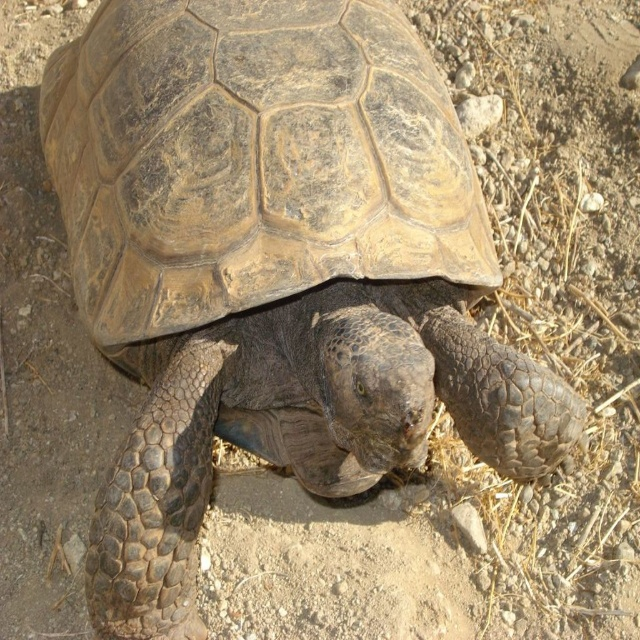Sea turtle: (38, 0, 589, 639)
